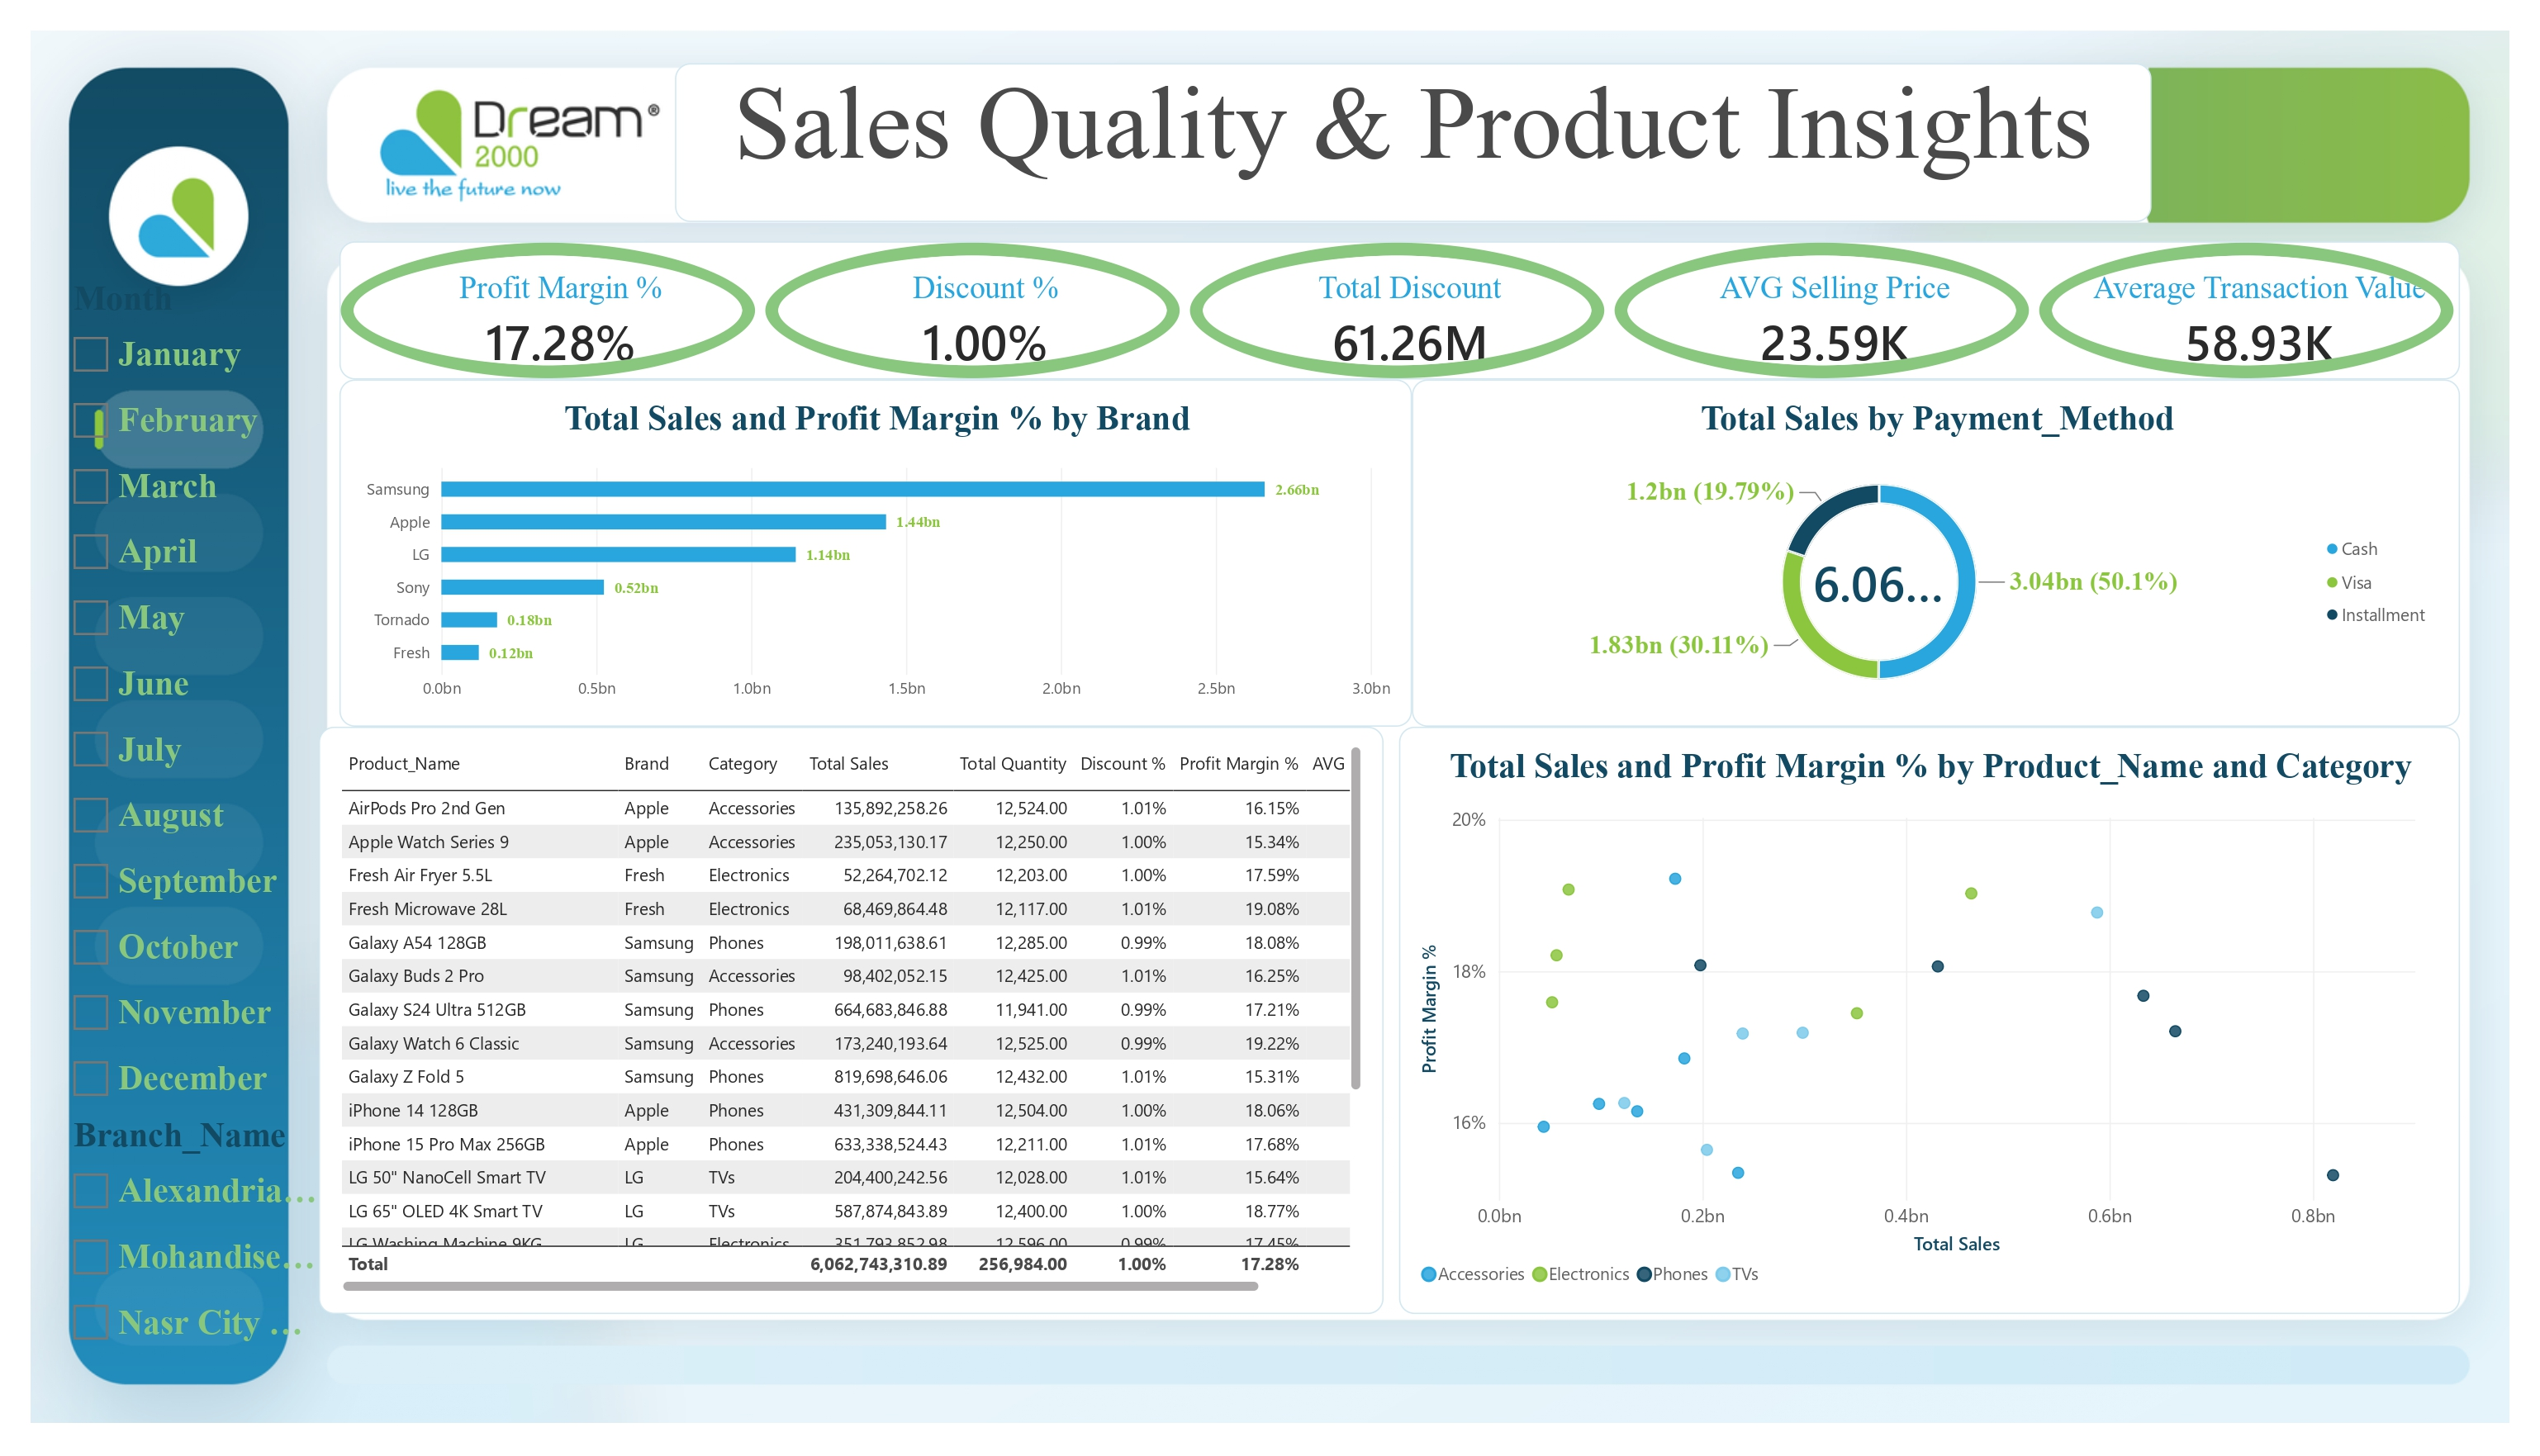

What the dashboard file says about the page in this screenshot:
{"tool":"powerbi","page":{"name":"Sales Quality & Product Insights","canvas":[1920,1080],"ordinal":5},"visuals":[{"type":"textbox","box":[499.5,25.3,1143.7,123.1],"z":0},{"type":"cardVisual","fields":{"Data":["Table.Profit Margin %","Table.Discount %","Table.Total Discount","Table.AVG Selling Price","Table.Average Transaction Value"]},"box":[238.9,162.9,1643.2,106.8],"z":1},{"type":"donutChart","fields":{"Category":["Sales_Table.Payment_Method"],"Y":["Table.Total Sales"]},"box":[1069.5,269.6,812.5,269.6],"z":2},{"type":"clusteredBarChart","fields":{"Category":["Products.Brand"],"Y":["Table.Total Sales"]},"box":[238.9,269.6,830.6,269.6],"z":3},{"type":"scatterChart","fields":{"Category":["Products.Product_Name"],"Series":["Products.Category"],"X":["Table.Total Sales"],"Y":["Table.Profit Margin %"]},"box":[1060.5,539.3,821.6,454.2],"z":4},{"type":"tableEx","fields":{"Values":["Products.Product_Name","Products.Brand","Products.Category","Table.Total Sales","Table.Total Quantity","Table.Discount %","Table.Profit Margin %","Table.AVG Selling Price"]},"box":[222.6,539.3,825.2,454.2],"z":5},{"type":"slicer","fields":{"Values":["Employees_Table.Date_of_Birth.Variation.Date Hierarchy.Month"]},"box":[25.3,191.8,170.1,647.9],"z":6},{"type":"slicer","fields":{"Values":["Branches_Table.Branch_Name"]},"box":[25.3,839.7,197.3,211.7],"z":7}]}

Visuals, with their boxes on the page's 1920x1080 design canvas (x1, y1, x2, y2). These are canvas units, not pixel positions in the 2540x1456 screenshot, which may show the page scaled, cropped or inside an application window:
textbox: bbox=[500, 25, 1643, 148]
cardVisual - Table.Profit Margin % x Table.Discount %: bbox=[239, 163, 1882, 270]
donutChart - Sales_Table.Payment_Method x Table.Total Sales: bbox=[1070, 270, 1882, 539]
clusteredBarChart - Products.Brand x Table.Total Sales: bbox=[239, 270, 1070, 539]
scatterChart - Products.Product_Name x Products.Category: bbox=[1060, 539, 1882, 994]
tableEx - Products.Product_Name x Products.Brand: bbox=[223, 539, 1048, 994]
slicer - Employees_Table.Date_of_Birth.Variation.Date Hierarchy.Month: bbox=[25, 192, 195, 840]
slicer - Branches_Table.Branch_Name: bbox=[25, 840, 223, 1051]
